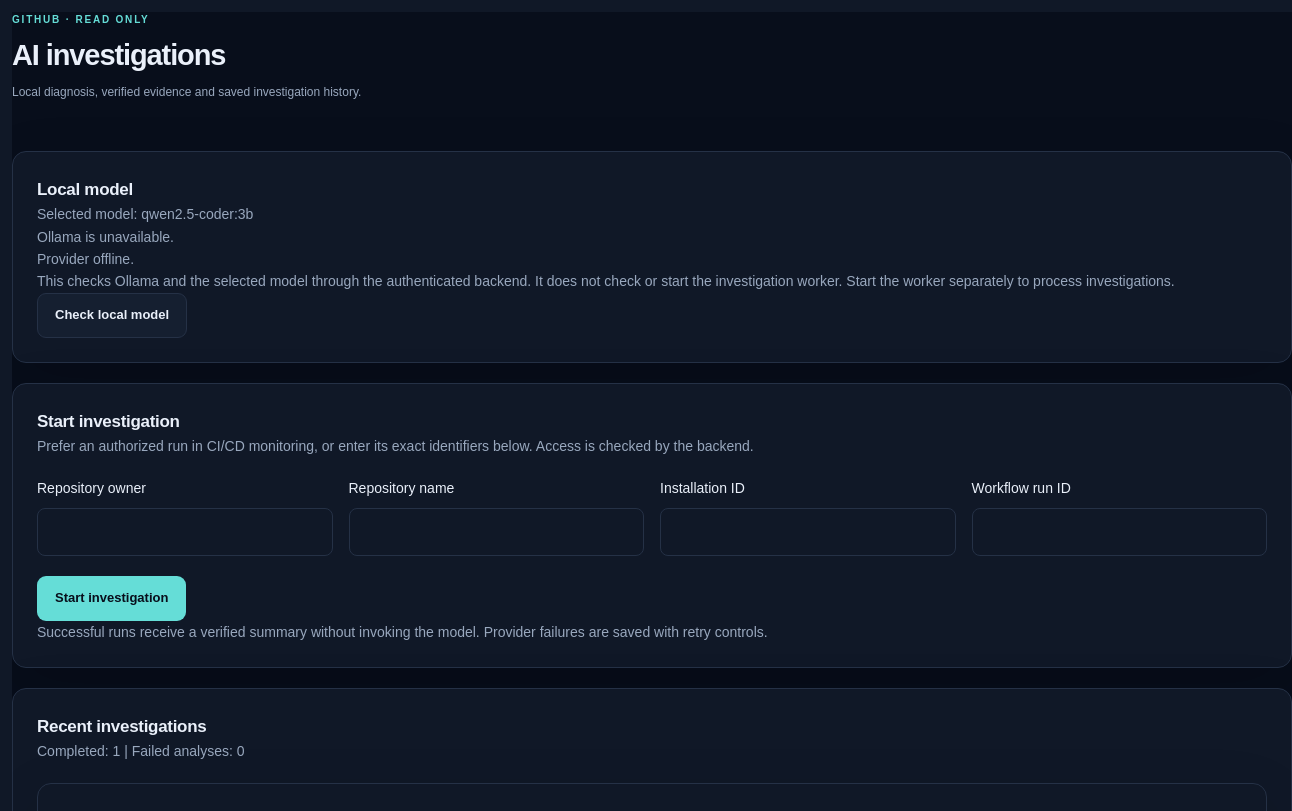
it: recovers from unavailable Ollama after a manual check
Expected: the text "Ollama is unavailable." is shown, [37,229,174,245]
Click the button "Check local model": point(112, 315) [37,293,187,338]
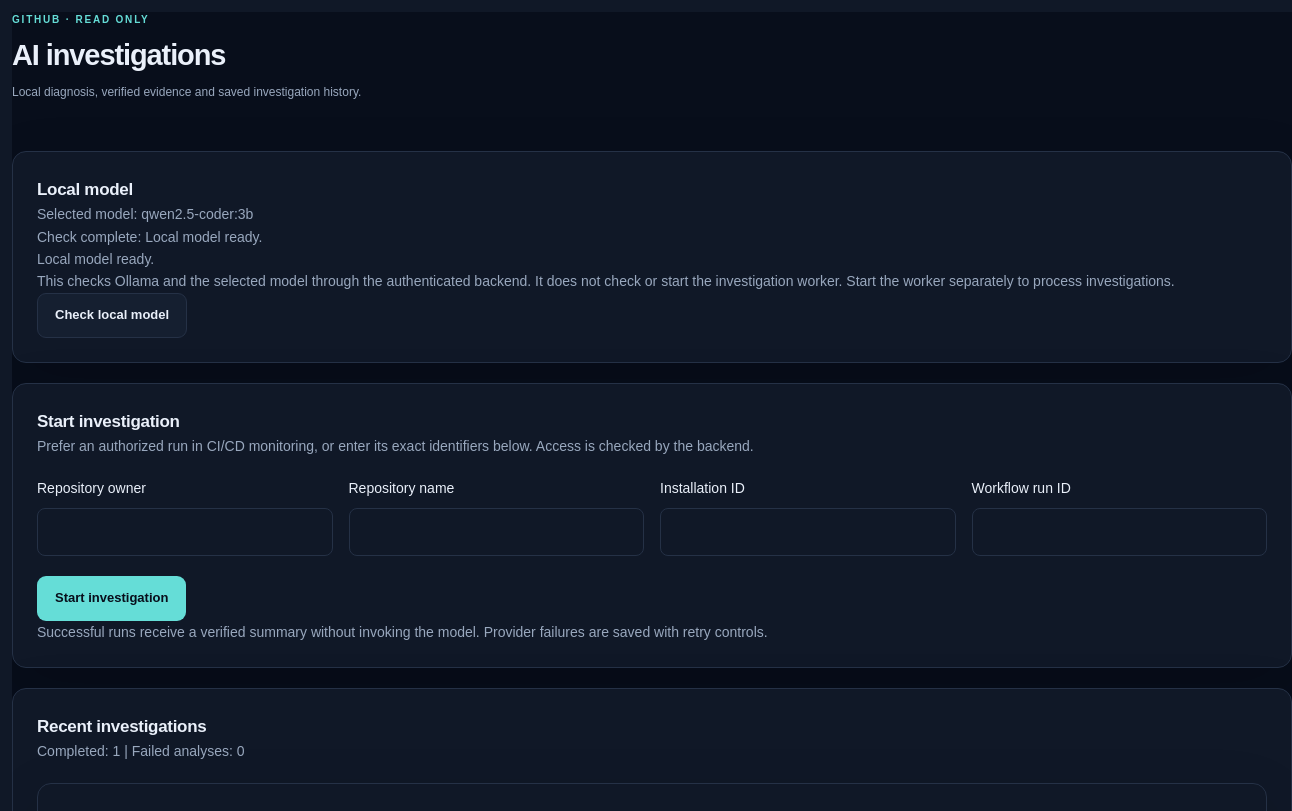
Result: the text "Check complete: Local model ready." is shown at [37,229,262,245]
